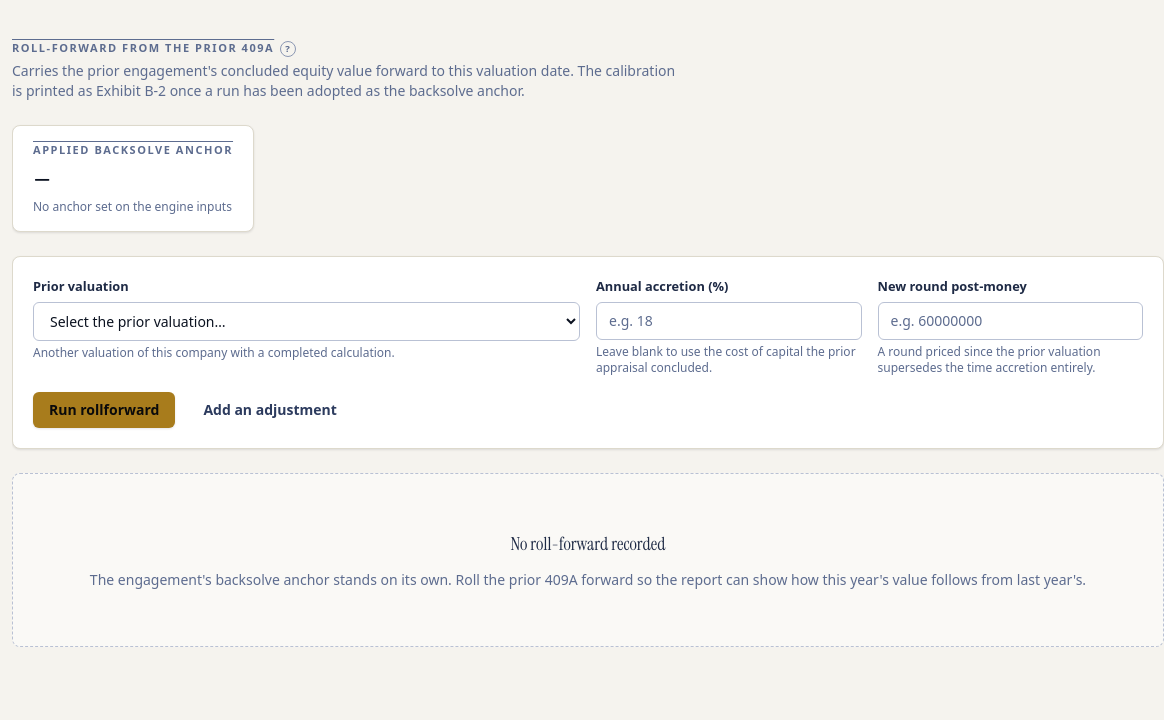
Test: RollforwardPanel › sends only the prior valuation when nothing else is stated, and does not adopt
The width and height of the screenshot is (1164, 720).
Check: the text "No roll-forward recorded" is shown, box top-left (511, 532), bottom-right (666, 556)
Select "V-2025-004 · Jul 1, 2025" in the dropdown labelled "Prior valuation" at (306,321), box top-left (33, 302), bottom-right (580, 341)
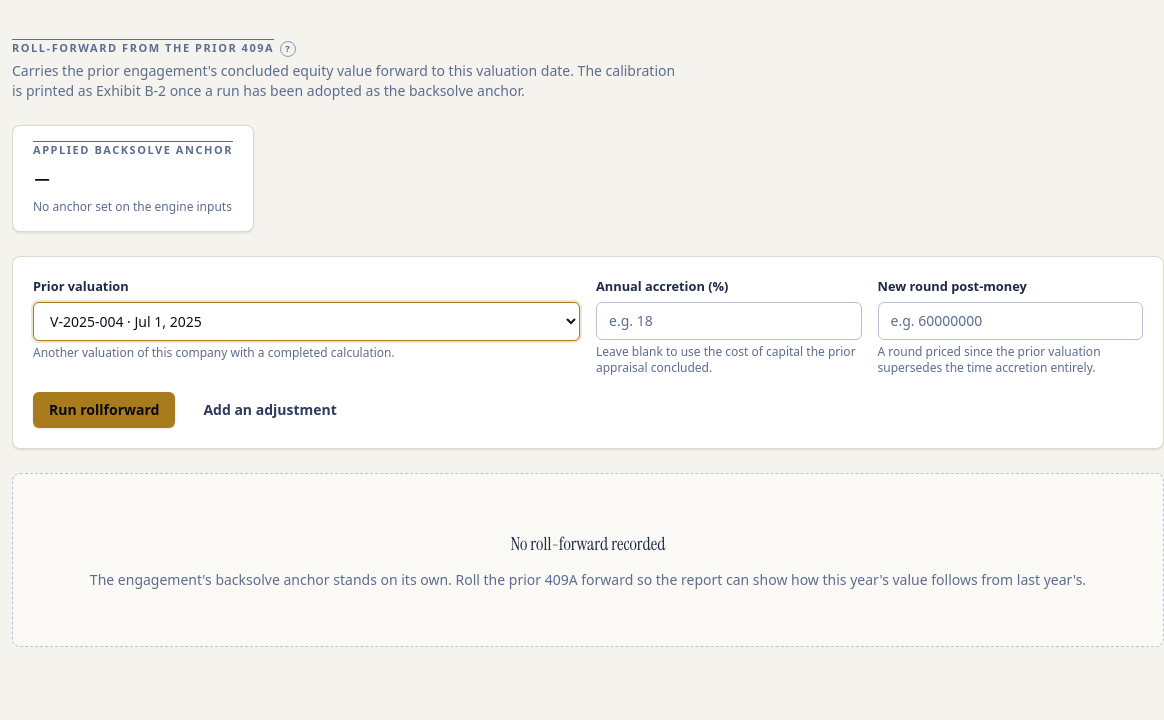
Click the button "Run rollforward" at (104,410), box top-left (33, 392), bottom-right (175, 428)
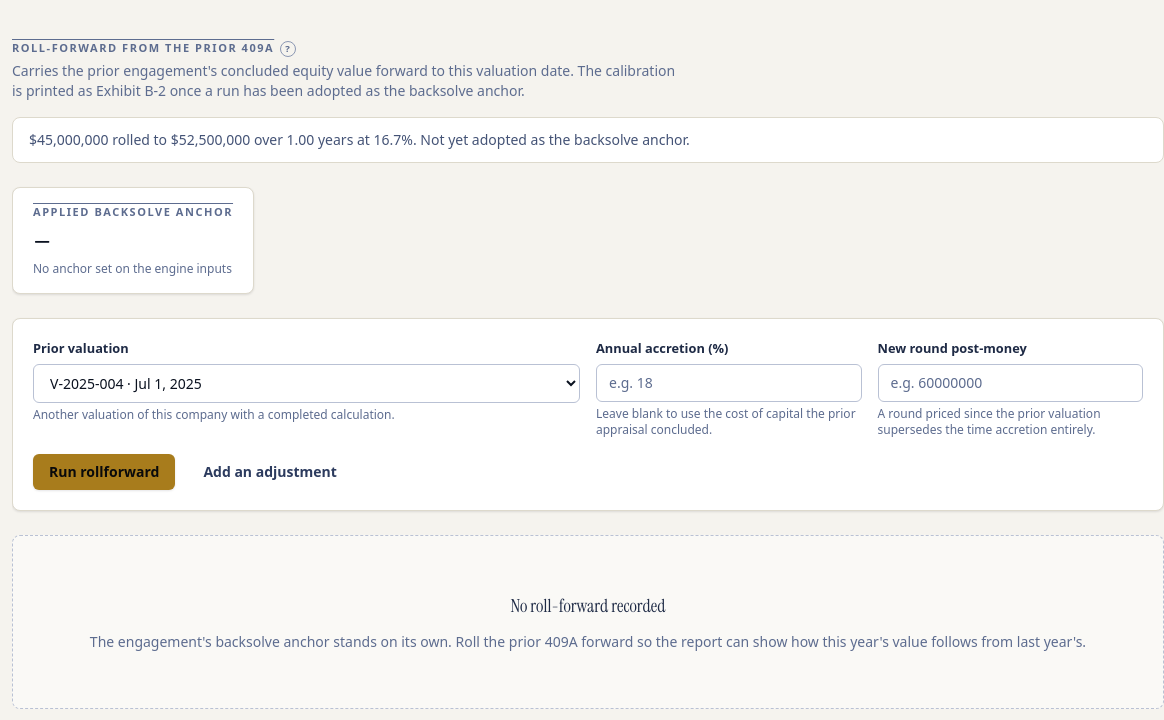
Check: the text "Not yet adopted as the backsolve anchor" is shown, box top-left (29, 130), bottom-right (690, 149)
